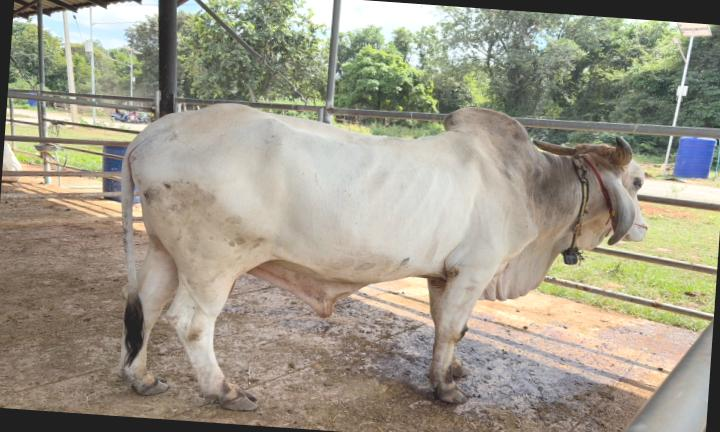Brahman: (119, 103, 647, 410)
